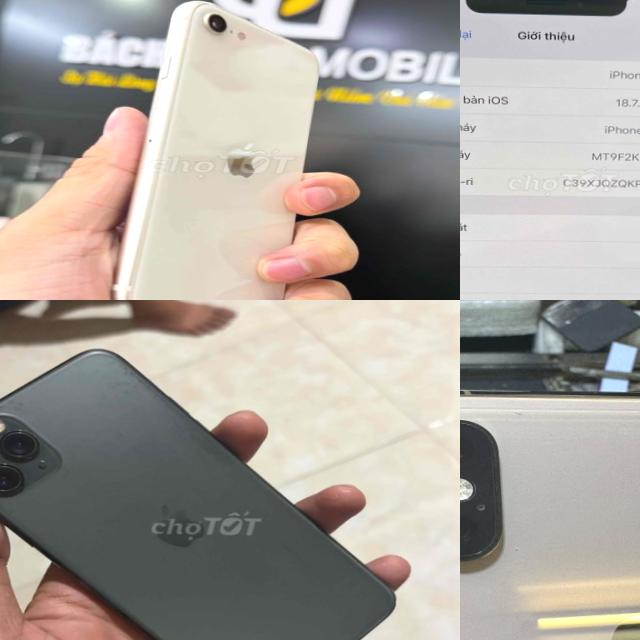gen_11: (0, 349, 394, 640)
gen_7_8: (101, 0, 332, 300)
gen_x_xs: (460, 0, 640, 300), (460, 385, 640, 640)
